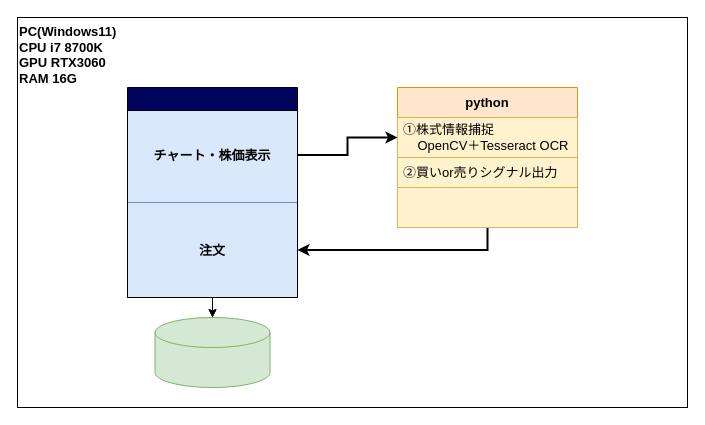
The diagram is 705 pixels wide and 425 high, and some of its shapes have lost their labels. Here are the shapes that lost their labels. From the top down, the centre of each, then its label:
At point 212,192: "Hyper SBI2".
At point 487,207: "➂注文発注 pyautogui".
At point 212,352: "【日次】結果出力(csv)".
